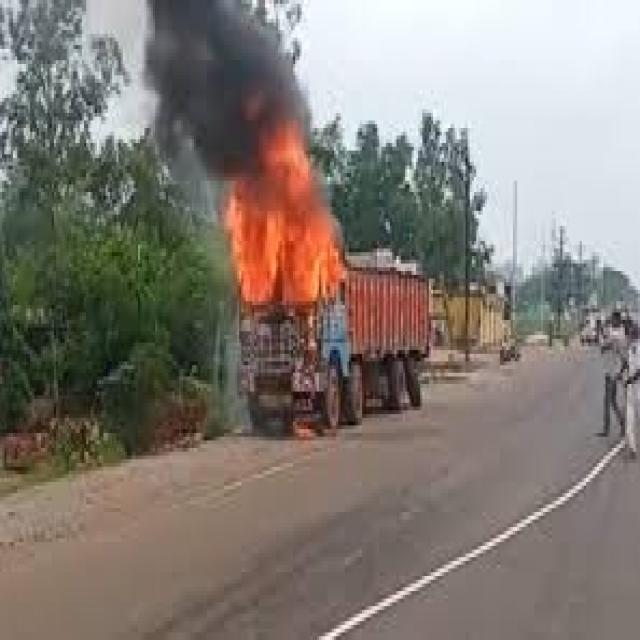fire: (220, 132, 349, 305)
smoke: (138, 4, 315, 177)
